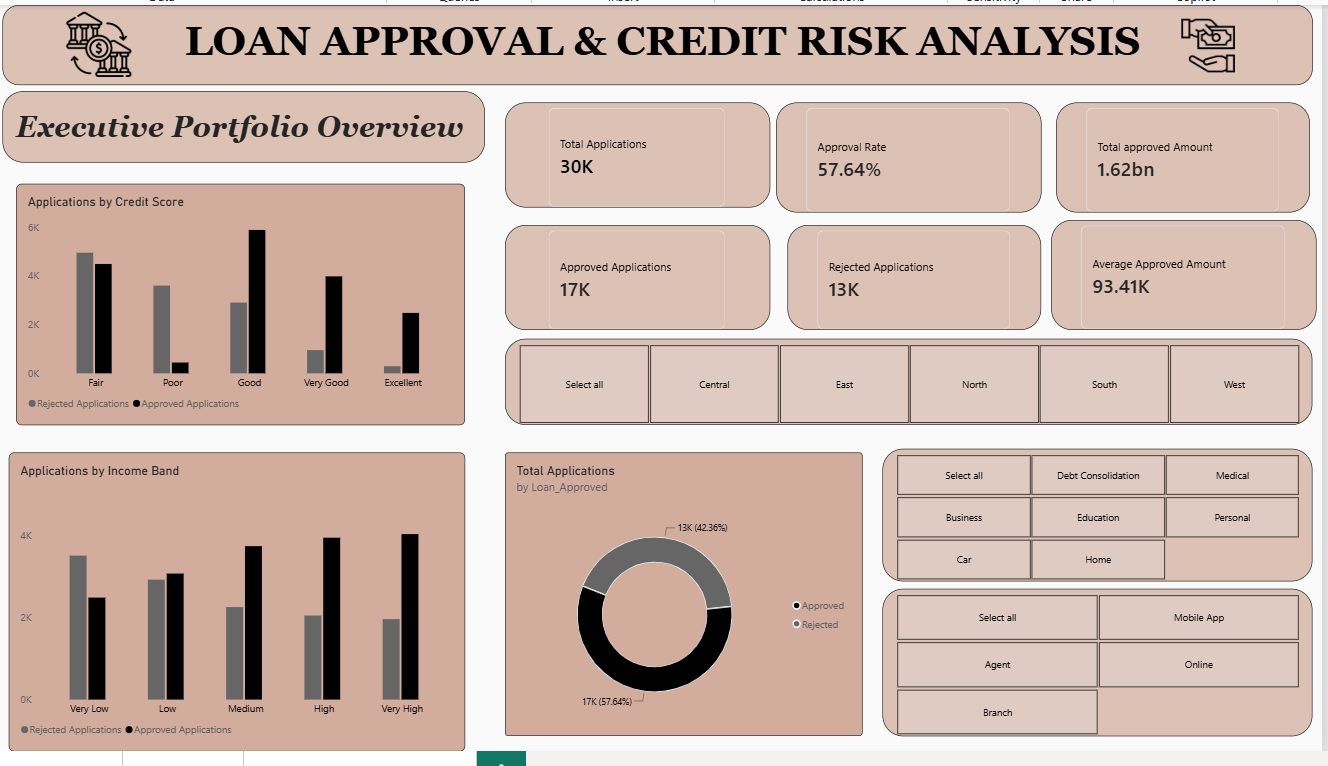

This screenshot's page, from the dashboard's own definition file:
{"tool":"powerbi","page":{"name":"Excutive Overview","canvas":[1920,1080],"ordinal":0},"visuals":[{"type":"textbox","box":[10,0,280,280],"z":0},{"type":"textbox","box":[10.9,0,1896.5,115.8],"z":1},{"type":"textbox","box":[10.9,124.9,698.5,103.2],"z":2},{"type":"cardVisual","fields":{"Data":["loans.Approved Applications"]},"box":[738.9,317.8,383.6,152],"z":3},{"type":"cardVisual","fields":{"Data":["loans.Rejected Applications"]},"box":[1146.7,317.8,367.4,152],"z":4},{"type":"cardVisual","fields":{"Data":["loans.Approval Rate"]},"box":[1131.3,140.6,383.6,159.3],"z":5},{"type":"cardVisual","fields":{"Data":["loans.Total approved Amount"]},"box":[1536.7,141.1,367.4,159.3],"z":6},{"type":"cardVisual","fields":{"Data":["loans.Total Applications"]},"box":[738.3,141.2,383.6,152],"z":7},{"type":"cardVisual","fields":{"Data":["loans.Average Approved Amount"]},"box":[1528.9,311.1,383.6,159.3],"z":8},{"type":"image","box":[103.2,9,94.1,95.9],"z":9},{"type":"image","box":[1663.1,19.9,186.4,77.8],"z":10},{"type":"clusteredColumnChart","title":"Applications by Credit Score","fields":{"Category":["loans.Credit_Score_Band"],"Y":["loans.Rejected Applications","loans.Approved Applications"]},"box":[30.8,258.8,649.7,349.3],"z":11},{"type":"clusteredColumnChart","title":"Applications by Income Band","fields":{"Category":["loans.Income_Band"],"Y":["loans.Rejected Applications","loans.Approved Applications"]},"box":[19.9,647.9,660.5,432.5],"z":12},{"type":"donutChart","fields":{"Category":["loans.Loan_Approved"],"Y":["loans.Total Applications"]},"box":[738.3,647.9,517.6,410.8],"z":13},{"type":"slicer","fields":{"Values":["loans.Loan_Purpose"]},"box":[1284.9,642.4,622.5,191.8],"z":14},{"type":"slicer","fields":{"Values":["loans.Application_Channel"]},"box":[1284.9,845.1,622.5,213.5],"z":15},{"type":"slicer","fields":{"Values":["loans.Region"]},"box":[738.3,483.2,1169,124.9],"z":16}]}

Visuals, with their boxes on the page's 1920x1080 design canvas (x1, y1, x2, y2). These are canvas units, not pixel positions in the 1328x766 screenshot, which may show the page scaled, cropped or inside an application window:
textbox: 10 0 290 280
textbox: 11 0 1907 116
textbox: 11 125 709 228
cardVisual - loans.Approved Applications: 739 318 1122 470
cardVisual - loans.Rejected Applications: 1147 318 1514 470
cardVisual - loans.Approval Rate: 1131 141 1515 300
cardVisual - loans.Total approved Amount: 1537 141 1904 300
cardVisual - loans.Total Applications: 738 141 1122 293
cardVisual - loans.Average Approved Amount: 1529 311 1912 470
image: 103 9 197 105
image: 1663 20 1850 98
"Applications by Credit Score" clusteredColumnChart: 31 259 680 608
"Applications by Income Band" clusteredColumnChart: 20 648 680 1080
donutChart - loans.Loan_Approved x loans.Total Applications: 738 648 1256 1059
slicer - loans.Loan_Purpose: 1285 642 1907 834
slicer - loans.Application_Channel: 1285 845 1907 1059
slicer - loans.Region: 738 483 1907 608
